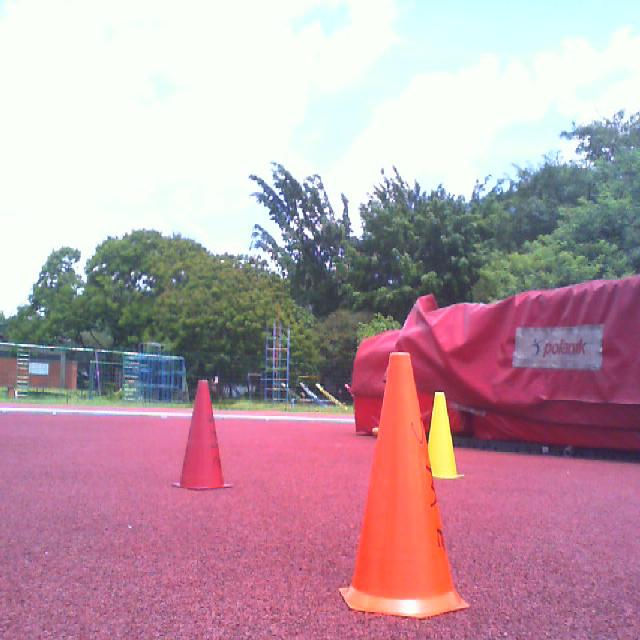cone: (337, 352, 472, 619), (171, 380, 234, 491), (428, 392, 464, 479)
